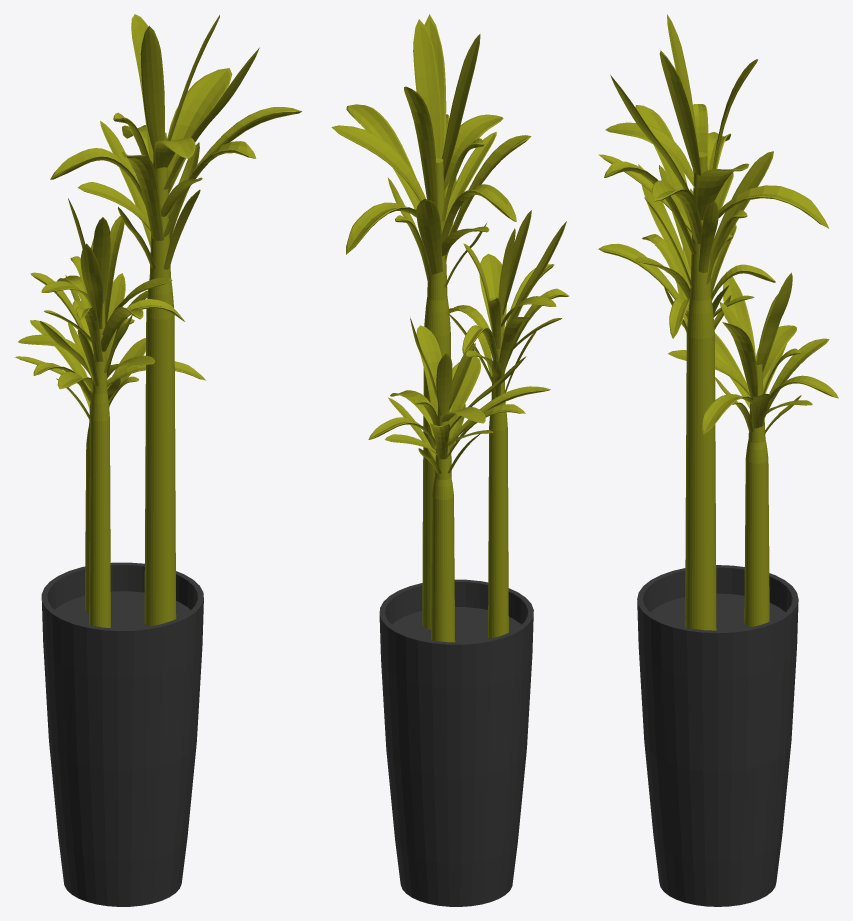
Rendered from corn.obj.
The picture shows the model from 3 angles, left to right: view 1: azimuth 30°, elevation 25°; view 2: azimuth 150°, elevation 25°; view 3: azimuth 270°, elevation 25°; orthographic projection. The views are drawn at different scales.
Visible parts, largest first — view 1: corn_Corn_plant_Cylinder.2436; view 2: corn_Corn_plant_Cylinder.2436; view 3: corn_Corn_plant_Cylinder.2436.
Boxes of the visible parts, <box> form: corn_Corn_plant_Cylinder.2436: <box>14,14,301,906</box>; corn_Corn_plant_Cylinder.2436: <box>331,14,569,906</box>; corn_Corn_plant_Cylinder.2436: <box>598,14,838,906</box>.
Bounding box in the file's own units: 0.0423 × 0.1457 × 0.0366.
